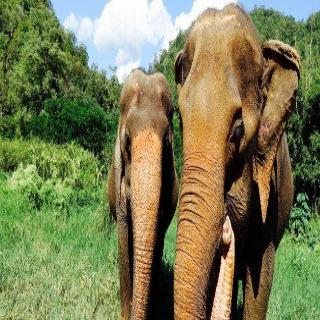Elephant: (174, 2, 303, 320), (106, 64, 180, 320)
